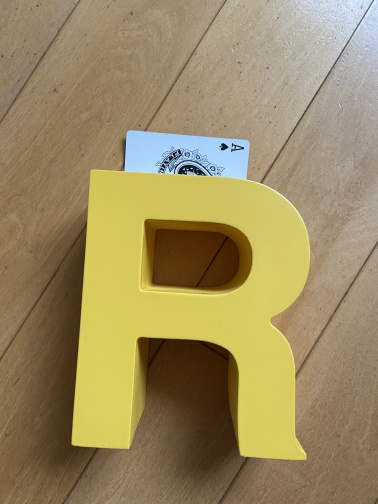ace: (120, 128, 251, 220)
